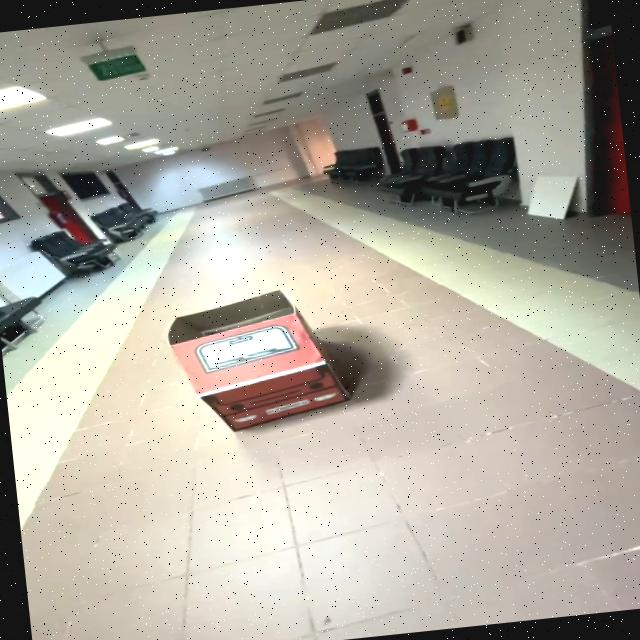red_car: (139, 270, 381, 459)
